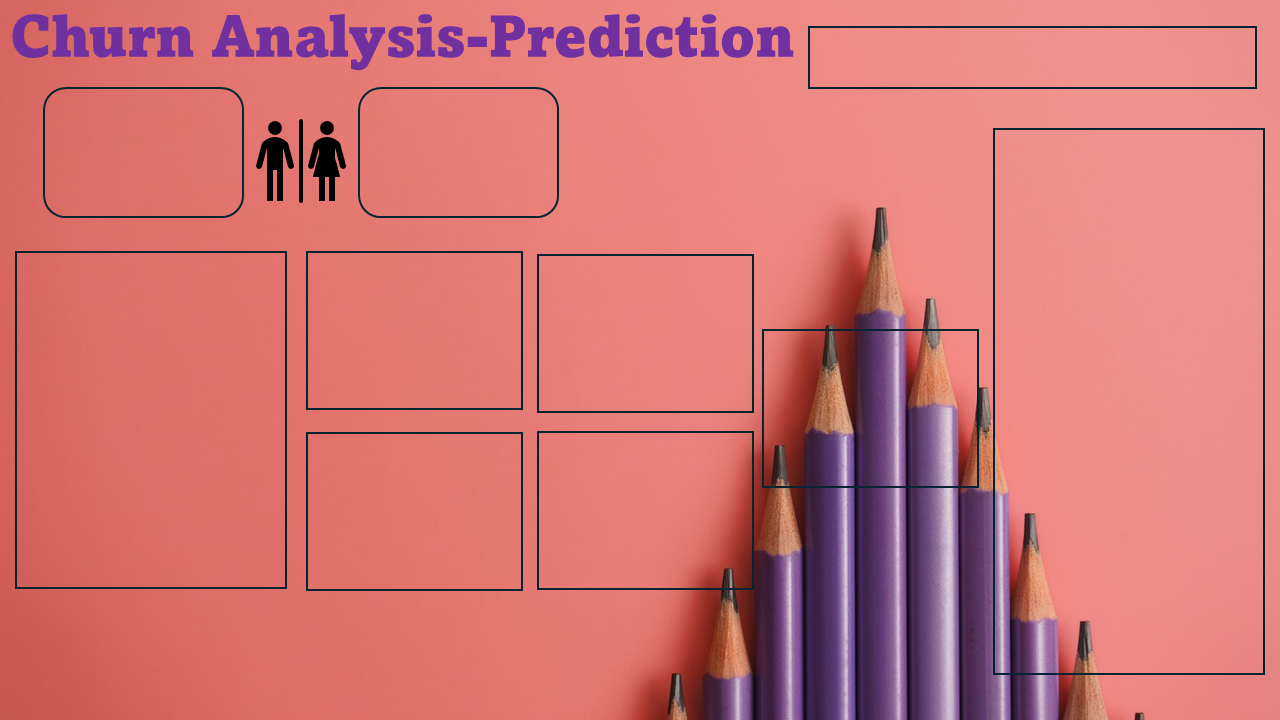

What the dashboard file says about the page in this screenshot:
{"tool":"powerbi","page":{"name":" Prediction","canvas":[1280,720],"ordinal":2},"visuals":[{"type":"tableEx","fields":{"Values":["prod_Churn.Customer_ID","Sum(prod_Churn.Monthly_Charge)","Sum(prod_Churn.Number_of_Referrals)","Sum(prod_Churn.Total_Revenue)","Sum(prod_Churn.Total_Refunds)"]},"box":[993.5,129,271.7,540.7],"z":1},{"type":"card","fields":{"Values":["tbl_Measures.Title Predicted Churners"]},"box":[797.3,15.1,483,72.7],"z":2},{"type":"card","fields":{"Values":["tbl_Measures.Count Predicted Churner"]},"box":[0,82.3,260.7,118],"z":4},{"type":"card","fields":{"Values":["tbl_Measures.Count Predicted Churner"]},"box":[304.6,87.8,300.5,118],"z":5},{"type":"clusteredColumnChart","fields":{"Category":["mapping_AgeGrp.Age Group"],"Y":["CountNonNull(ChurnExcel.Customer_ID)"]},"box":[304.6,429.5,215.4,153.7],"z":6},{"type":"clusteredColumnChart","fields":{"Category":["mapping_TenureGrp.Tenure Group"],"Y":["CountNonNull(ChurnExcel.Customer_ID)"]},"box":[764.3,326.6,212.7,156.4],"z":7},{"type":"clusteredColumnChart","fields":{"Category":["prod_Churn.Married"],"Y":["CountNonNull(ChurnExcel.Customer_ID)"]},"box":[540.7,253.9,204.5,150.9],"z":8},{"type":"clusteredColumnChart","fields":{"Category":["prod_Churn.Payment_Method"],"Y":["CountNonNull(ChurnExcel.Customer_ID)"]},"box":[540.7,429.5,204.5,153.7],"z":9},{"type":"lineClusteredColumnComboChart","fields":{"Category":["prod_Churn.Contract"],"Y":["CountNonNull(ChurnExcel.Customer_ID)"]},"box":[311.5,253.9,203.1,145.5],"z":10},{"type":"hundredPercentStackedBarChart","fields":{"Category":["prod_Churn.State"],"Y":["CountNonNull(ChurnExcel.Customer_ID)"]},"box":[19.2,253.9,263.5,329.3],"z":11},{"type":"shape","title":"Summary","box":[19.2,644.9,263.5,52.1],"z":12}]}

Visuals, with their boxes in screenshot pixels (x1, y1, x2, y2), scaled from the page's 1280x720 canvas onto the 1280x720 screenshot:
tableEx - prod_Churn.Customer_ID x Sum(prod_Churn.Monthly_Charge): (994, 129, 1265, 670)
card - tbl_Measures.Title Predicted Churners: (797, 15, 1279, 88)
card - tbl_Measures.Count Predicted Churner: (0, 82, 261, 200)
card - tbl_Measures.Count Predicted Churner: (305, 88, 605, 206)
clusteredColumnChart - mapping_AgeGrp.Age Group x CountNonNull(ChurnExcel.Customer_ID): (305, 430, 520, 583)
clusteredColumnChart - mapping_TenureGrp.Tenure Group x CountNonNull(ChurnExcel.Customer_ID): (764, 327, 977, 483)
clusteredColumnChart - prod_Churn.Married x CountNonNull(ChurnExcel.Customer_ID): (541, 254, 745, 405)
clusteredColumnChart - prod_Churn.Payment_Method x CountNonNull(ChurnExcel.Customer_ID): (541, 430, 745, 583)
lineClusteredColumnComboChart - prod_Churn.Contract x CountNonNull(ChurnExcel.Customer_ID): (312, 254, 515, 399)
hundredPercentStackedBarChart - prod_Churn.State x CountNonNull(ChurnExcel.Customer_ID): (19, 254, 283, 583)
"Summary" shape: (19, 645, 283, 697)
